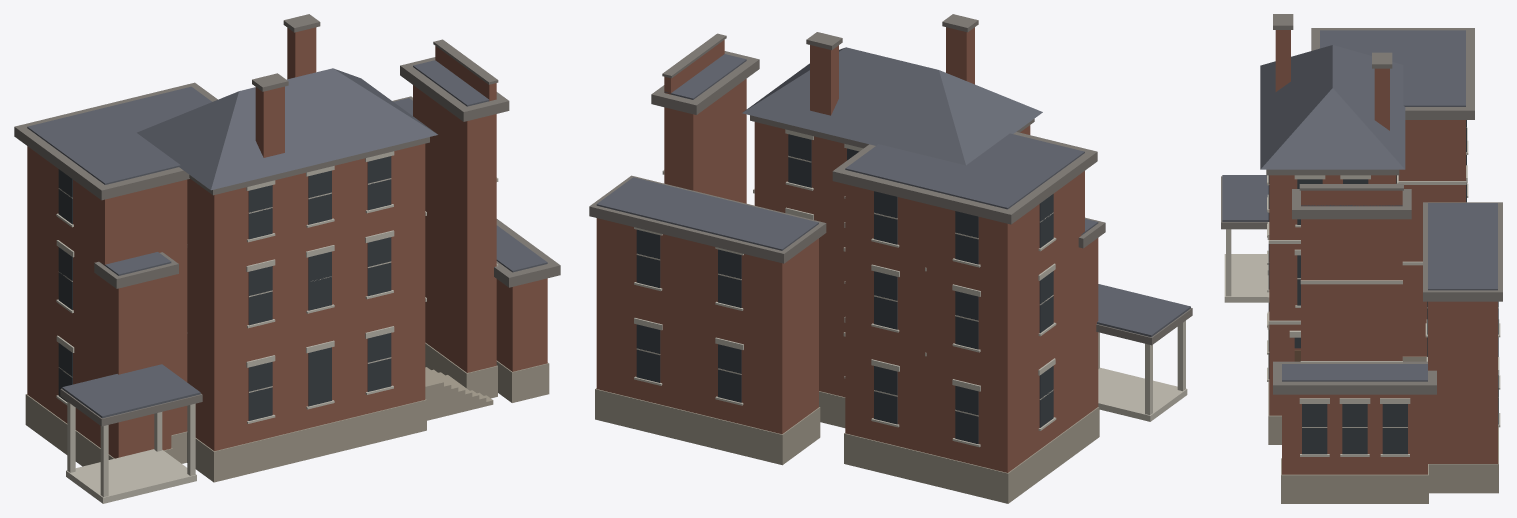
Rendered from roloson_house_2109_prairie__draft_1904.glb.
3 views of the same model, side by side, from view 1: azimuth 30°, elevation 25°; view 2: azimuth 150°, elevation 25°; view 3: azimuth 270°, elevation 25° (orthographic). The views are drawn at different scales.
Visible parts, largest first — view 1: roloson_house_2109_prairie__draft_1904; view 2: roloson_house_2109_prairie__draft_1904; view 3: roloson_house_2109_prairie__draft_1904.
Part boxes in pixels (left/top/right/bottom): roloson_house_2109_prairie__draft_1904: left=14, top=14, right=560, bottom=503; roloson_house_2109_prairie__draft_1904: left=589, top=14, right=1192, bottom=503; roloson_house_2109_prairie__draft_1904: left=1221, top=14, right=1502, bottom=503.
Size of the model in its own units: 20.75 by 15.51 by 11.1.
